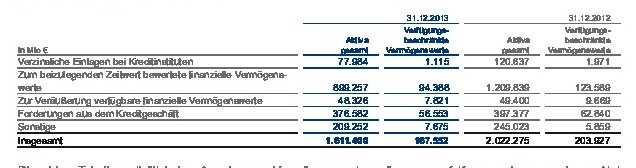table: (0, 0, 636, 168)
